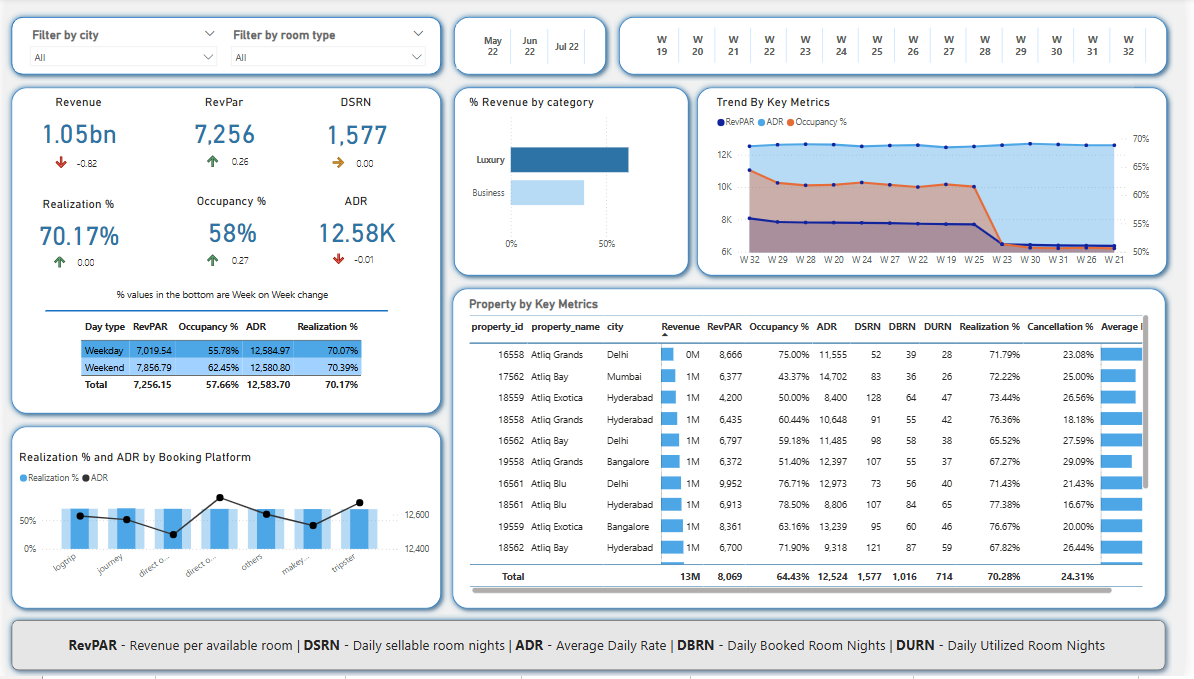

What the dashboard file says about the page in this screenshot:
{"tool":"powerbi","page":{"name":"Page 1","canvas":[1650,950],"ordinal":0},"visuals":[{"type":"shape","box":[0,18.9,619.1,98.6],"z":0},{"type":"shape","box":[850,18.9,784.9,98.6],"z":1000},{"type":"shape","box":[619.1,18.9,230.9,98.6],"z":2000},{"type":"shape","box":[959.1,117.5,675.8,281.2],"z":3000},{"type":"shape","box":[619.1,117.5,346.3,281.2],"z":4000},{"type":"shape","box":[617,398.8,1015.8,465.9],"z":5000},{"type":"shape","box":[0,591.8,619.1,272.8],"z":6000},{"type":"shape","box":[0,117.5,619.1,474.3],"z":7000},{"type":"tableEx","title":"Revenue","fields":{"Values":["key_measures.ADR WoW change %"]},"box":[447,327.4,88.1,60.9],"z":8000},{"type":"tableEx","title":"Revenue","fields":{"Values":["key_measures.Occupancy WoW change %"]},"box":[270.7,329.5,90.2,58.8],"z":9000},{"type":"tableEx","title":"Revenue","fields":{"Values":["key_measures.Realisation WoW change %"]},"box":[56.7,331.6,88.1,60.9],"z":10000},{"type":"tableEx","title":"Revenue","fields":{"Values":["key_measures.DSRN WoW change %"]},"box":[447,193.1,88.1,58.8],"z":11000},{"type":"tableEx","title":"Revenue","fields":{"Values":["key_measures.Revenue WoW change %"]},"box":[58.8,193.1,90.2,58.8],"z":12000},{"type":"tableEx","title":"Property by Key Metrics","fields":{"Values":["dim_hotels.property_id","dim_hotels.property_name","dim_hotels.city","key_measures.Revenue","key_measures.RevPAR","key_measures.Occupancy %","key_measures.ADR","key_measures.DSRN","key_measures.DBRN","key_measures.DURN","key_measures.Realization %","key_measures.Cancellation %"]},"box":[644.3,419.7,961.2,419.7],"z":13000},{"type":"slicer","fields":{"Values":["dim_hotels.city"]},"box":[25.2,37.8,281.2,63],"z":14000},{"type":"slicer","fields":{"Values":["dim_rooms.room_class"]},"box":[306.4,37.8,291.7,63],"z":15000},{"type":"slicer","fields":{"Values":["dim_date.mmm yy"]},"box":[631.7,37.8,203.6,63],"z":16000},{"type":"slicer","fields":{"Values":["dim_date.week no"]},"box":[868.9,35.7,751.3,63],"z":17000},{"type":"card","title":"Revenue","fields":{"Values":["key_measures.Revenue"]},"box":[25.2,136.4,155.3,83.9],"z":18000},{"type":"donutChart","title":"% Revenue by category","fields":{"Category":["dim_hotels.category"],"Y":["key_measures.Revenue"]},"box":[644.3,136.4,293.8,226.7],"z":19000},{"type":"tableEx","title":"Revenue","fields":{"Values":["key_measures.Revpar WoW change %"]},"box":[270.7,191,90.2,58.8],"z":20000},{"type":"card","title":"DSRN","fields":{"Values":["key_measures.DSRN"]},"box":[413.4,136.4,155.3,86],"z":21000},{"type":"card","title":"RevPar","fields":{"Values":["key_measures.RevPAR"]},"box":[228.8,136.4,155.3,83.9],"z":22000},{"type":"card","title":"Occupancy %","fields":{"Values":["key_measures.Occupancy %"]},"box":[239.3,274.9,155.3,83.9],"z":23000},{"type":"card","title":"ADR","fields":{"Values":["key_measures.ADR"]},"box":[413.4,274.9,155.3,83.9],"z":24000},{"type":"card","title":"Realization %","fields":{"Values":["key_measures.Realization %"]},"box":[25.2,279.1,155.3,83.9],"z":25000},{"type":"lineChart","title":"Trend By Key Metrics","fields":{"Category":["dim_date.mmm yy.Variation.Date Hierarchy.Month","dim_date.week no"],"Y":["key_measures.RevPAR","key_measures.ADR"],"Y2":["key_measures.Occupancy %"]},"box":[990.6,136.4,614.9,249.7],"z":26000},{"type":"lineClusteredColumnComboChart","title":"Realization % and ADR by Booking Platform","fields":{"Category":["fact_bookings.booking_platform"],"Y":["key_measures.Realization %"],"Y2":["key_measures.ADR"]},"box":[14.7,633.8,583.4,191],"z":27000},{"type":"tableEx","fields":{"Values":["dim_date.day_type","key_measures.RevPAR","key_measures.Occupancy %","key_measures.ADR","key_measures.Realization %"]},"box":[100.7,442.8,417.6,125.9],"z":28000},{"type":"shape","box":[0,862.8,1632.6,88.4],"z":29000},{"type":"textbox","box":[83.7,888.4,1483.7,39.5],"z":30000},{"type":"shape","box":[55.8,402.3,479.1,72.1],"z":31000},{"type":"textbox","box":[151.2,400,314,34.9],"z":31001}]}

Visuals, with their boxes in screenshot pixels (x1, y1, x2, y2), scaled from the page's 1650x950 canvas onto the 1194x679 screenshot:
shape: BBox(0, 14, 448, 84)
shape: BBox(615, 14, 1183, 84)
shape: BBox(448, 14, 615, 84)
shape: BBox(694, 84, 1183, 285)
shape: BBox(448, 84, 699, 285)
shape: BBox(446, 285, 1182, 618)
shape: BBox(0, 423, 448, 618)
shape: BBox(0, 84, 448, 423)
"Revenue" tableEx: BBox(323, 234, 387, 278)
"Revenue" tableEx: BBox(196, 236, 261, 278)
"Revenue" tableEx: BBox(41, 237, 105, 281)
"Revenue" tableEx: BBox(323, 138, 387, 180)
"Revenue" tableEx: BBox(43, 138, 108, 180)
"Property by Key Metrics" tableEx: BBox(466, 300, 1162, 600)
slicer - dim_hotels.city: BBox(18, 27, 222, 72)
slicer - dim_rooms.room_class: BBox(222, 27, 433, 72)
slicer - dim_date.mmm yy: BBox(457, 27, 604, 72)
slicer - dim_date.week no: BBox(629, 26, 1172, 71)
"Revenue" card: BBox(18, 97, 131, 157)
"% Revenue by category" donutChart: BBox(466, 97, 679, 260)
"Revenue" tableEx: BBox(196, 137, 261, 179)
"DSRN" card: BBox(299, 97, 412, 159)
"RevPar" card: BBox(166, 97, 278, 157)
"Occupancy %" card: BBox(173, 196, 286, 256)
"ADR" card: BBox(299, 196, 412, 256)
"Realization %" card: BBox(18, 199, 131, 259)
"Trend By Key Metrics" lineChart: BBox(717, 97, 1162, 276)
"Realization % and ADR by Booking Platform" lineClusteredColumnComboChart: BBox(11, 453, 433, 590)
tableEx - dim_date.day_type x key_measures.RevPAR: BBox(73, 316, 375, 406)
shape: BBox(0, 617, 1181, 678)
textbox: BBox(61, 635, 1134, 663)
shape: BBox(40, 288, 387, 339)
textbox: BBox(109, 286, 337, 311)
